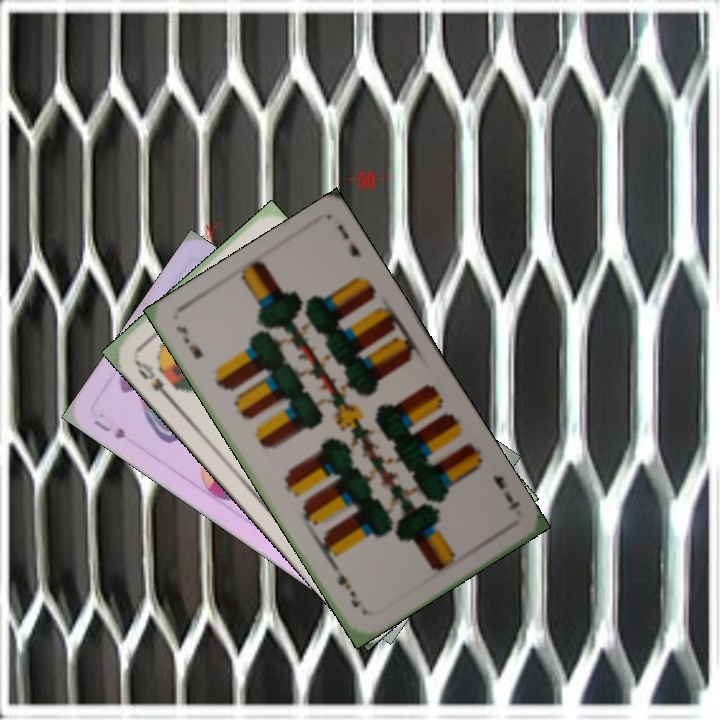E7: (488, 470, 523, 514), (172, 321, 206, 362)
SO: (130, 356, 175, 403)
SU: (89, 415, 128, 442)
